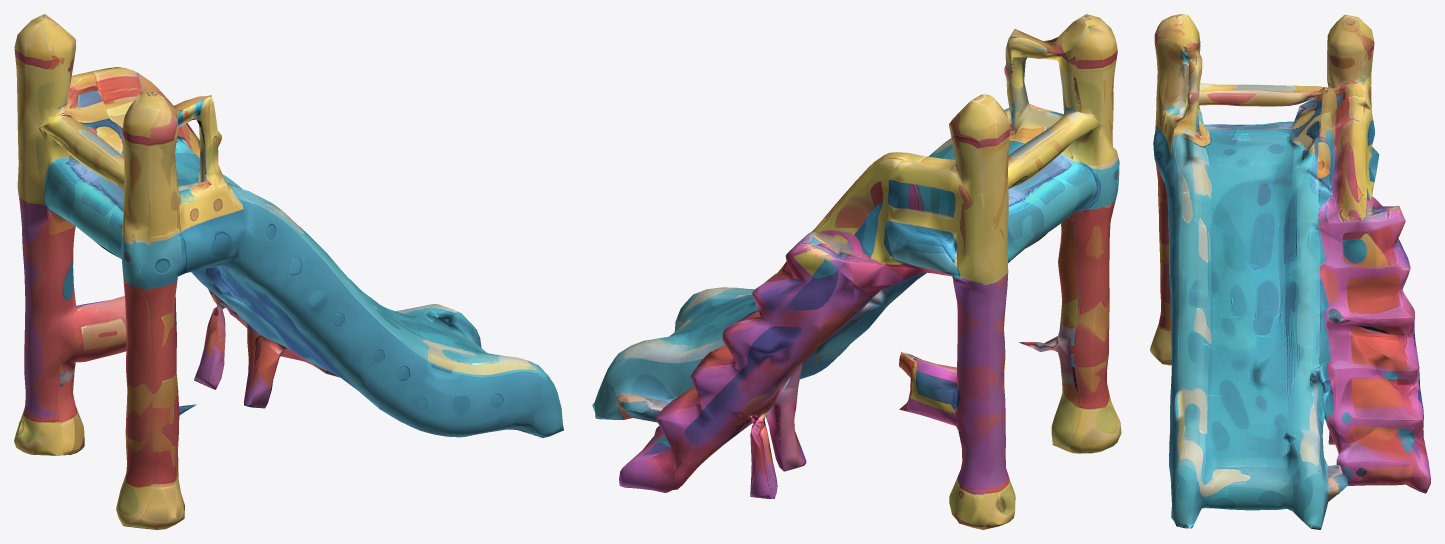
Rendered from slide.fbx.
3 renders of one model, left to right at view 1: azimuth 30°, elevation 25°; view 2: azimuth 150°, elevation 25°; view 3: azimuth 270°, elevation 25°, orthographic. The views are drawn at different scales.
Visible parts, largest first — view 1: Mesh_0; view 2: Mesh_0; view 3: Mesh_0.
Part boxes in pixels (x1,y1,x2,y2): Mesh_0: (14, 14, 563, 529); Mesh_0: (592, 14, 1121, 529); Mesh_0: (1150, 14, 1430, 529).
Size of the model in its own units: 120 by 113 by 80.93.
1 material, 1 textured.
